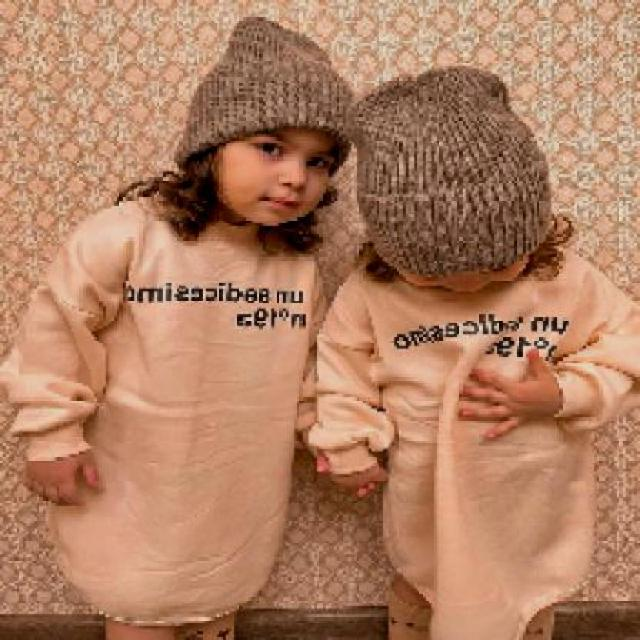child: (2, 14, 355, 637), (305, 59, 640, 638)
